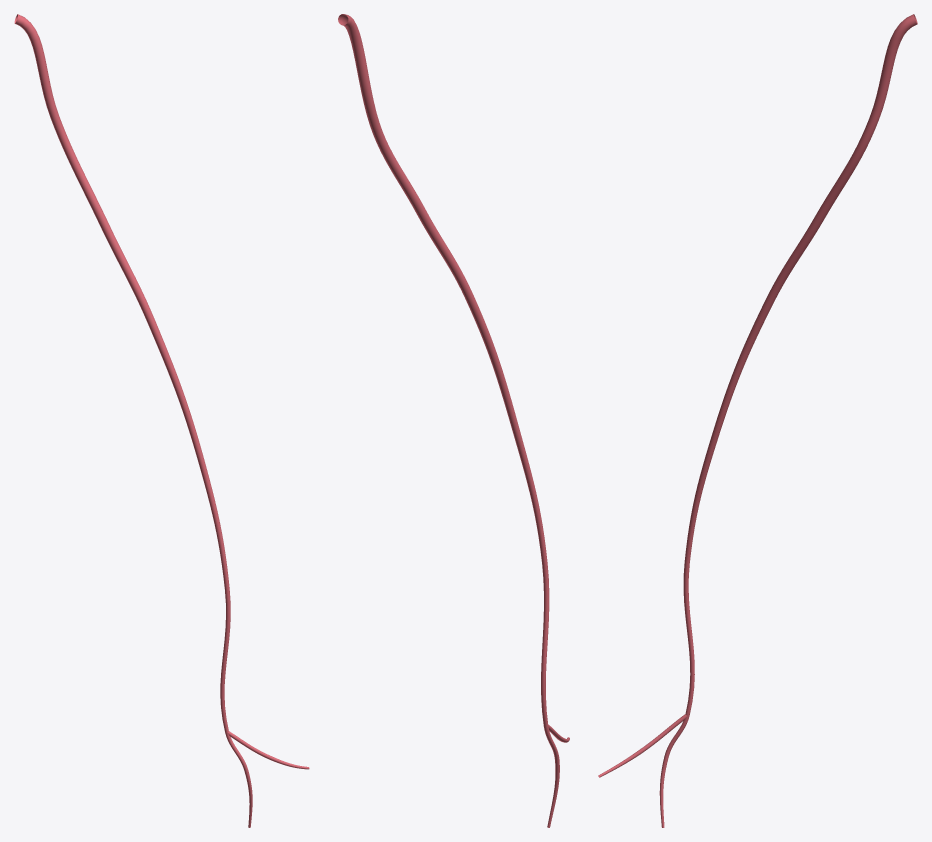
The picture shows the model from 3 angles, left to right: view 1: azimuth 90°, elevation 25°; view 2: azimuth 150°, elevation 25°; view 3: azimuth 270°, elevation 25°; orthographic projection. The views are drawn at different scales.
Parts seen in each view (by area): view 1: ZA_8221dd4506bfb800; view 2: ZA_8221dd4506bfb800; view 3: ZA_8221dd4506bfb800.
Boxes of the visible parts, left/top/right/bottom form: ZA_8221dd4506bfb800: left=14, top=14, right=309, bottom=827; ZA_8221dd4506bfb800: left=338, top=14, right=569, bottom=827; ZA_8221dd4506bfb800: left=598, top=14, right=917, bottom=827.
Bounding box in the file's own units: 0.0224 × 0.2112 × 0.0722.
